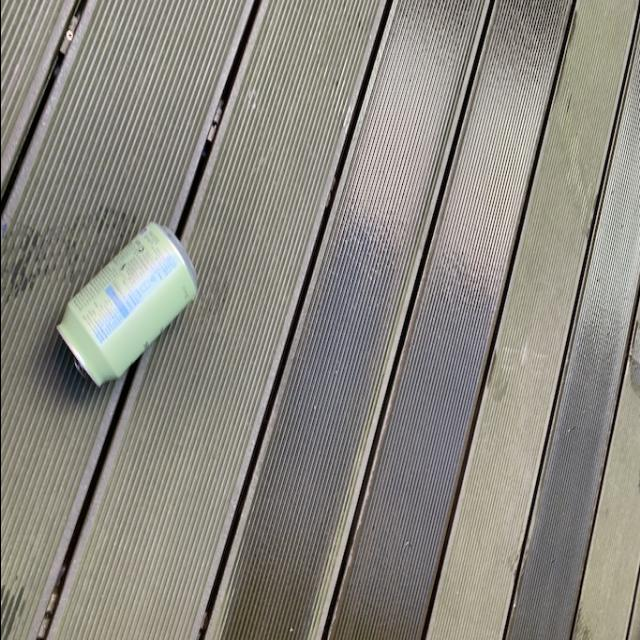Aluminum Can: (56, 220, 196, 389)
